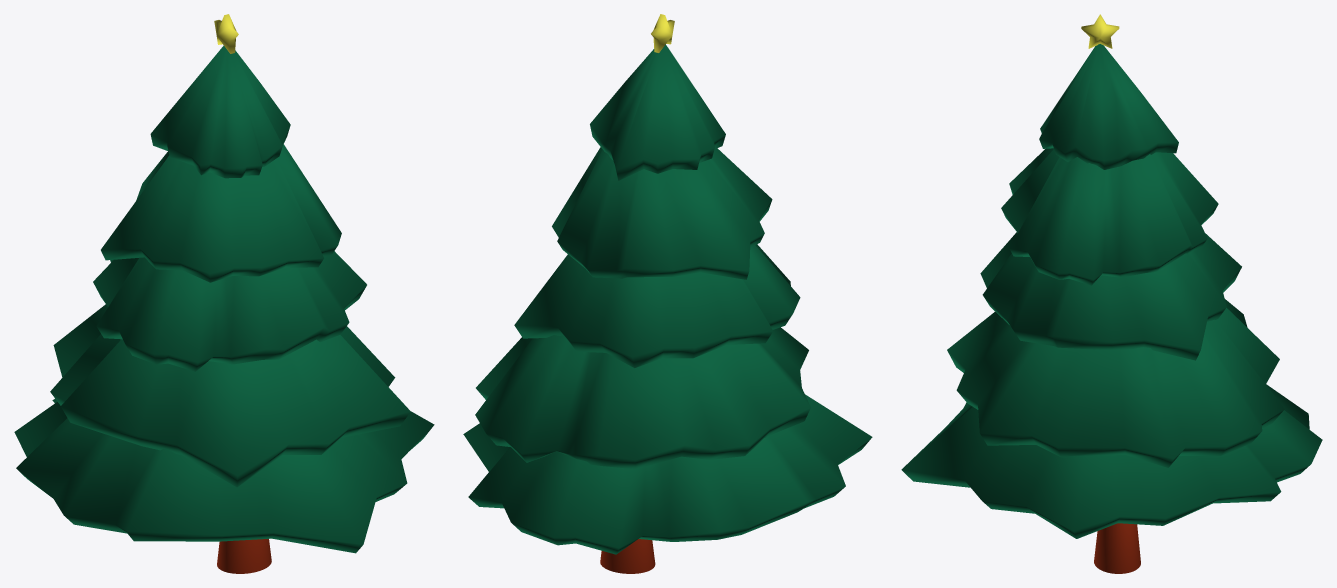
The model's file is Christmas Tree.fbx.
3 renders of one model, left to right at view 1: azimuth 30°, elevation 25°; view 2: azimuth 150°, elevation 25°; view 3: azimuth 270°, elevation 25°, orthographic. The views are drawn at different scales.
Parts seen in each view (by area): view 1: Circle.001, Circle, Circle.002, Circle.003, Circle.004, Cylinder, Start; view 2: Circle.001, Circle, Circle.003, Circle.002, Circle.004, Cylinder, Start; view 3: Circle.001, Circle, Circle.003, Circle.002, Circle.004, Cylinder, Start.
Boxes of the visible parts, left/top/right/bottom form: Circle.001: left=50, top=304, right=410, bottom=487; Circle: left=14, top=399, right=434, bottom=553; Circle.002: left=93, top=251, right=366, bottom=371; Circle.003: left=101, top=144, right=341, bottom=282; Circle.004: left=150, top=45, right=290, bottom=178; Cylinder: left=217, top=539, right=271, bottom=573; Start: left=214, top=14, right=238, bottom=53; Circle.001: left=475, top=327, right=810, bottom=469; Circle: left=463, top=394, right=872, bottom=554; Circle.003: left=552, top=147, right=772, bottom=279; Circle.002: left=514, top=244, right=800, bottom=367; Circle.004: left=590, top=44, right=725, bottom=180; Cylinder: left=600, top=539, right=655, bottom=573; Start: left=651, top=14, right=674, bottom=52; Circle.001: left=947, top=299, right=1284, bottom=467; Circle: left=901, top=384, right=1322, bottom=538; Circle.003: left=1001, top=148, right=1218, bottom=285; Circle.002: left=980, top=232, right=1241, bottom=360; Circle.004: left=1039, top=44, right=1178, bottom=169; Cylinder: left=1094, top=523, right=1140, bottom=573; Start: left=1081, top=14, right=1119, bottom=48.
Size of the model in its own units: 231 by 332 by 237.
